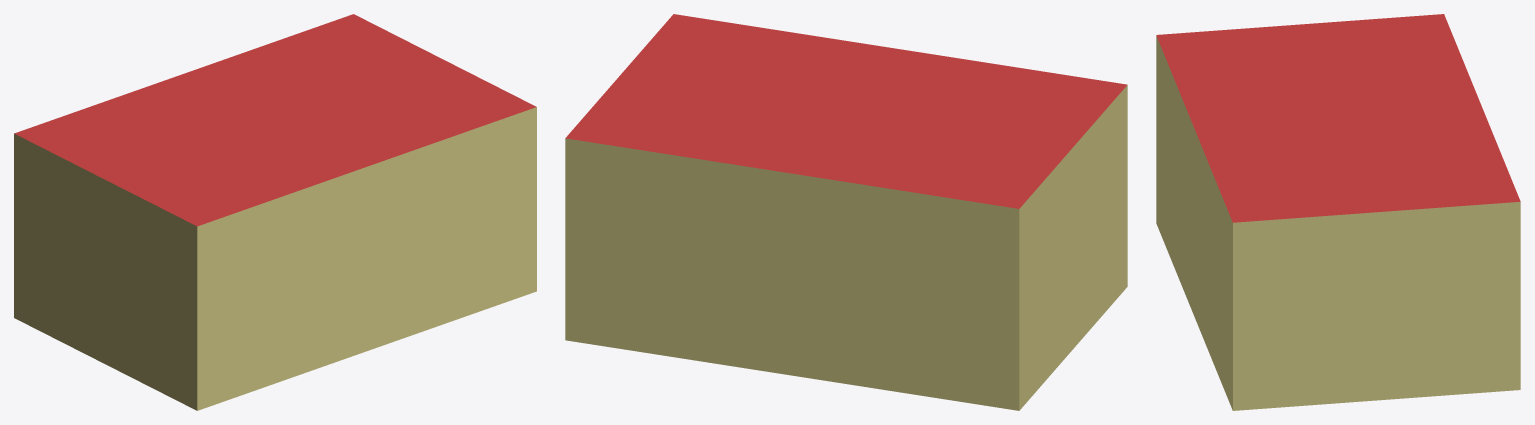
The picture shows the model from 3 angles, left to right: view 1: azimuth 30°, elevation 25°; view 2: azimuth 150°, elevation 25°; view 3: azimuth 270°, elevation 25°; orthographic projection. The views are drawn at different scales.
Size of the model in its own units: 16.66 by 12.3 by 7.01.
